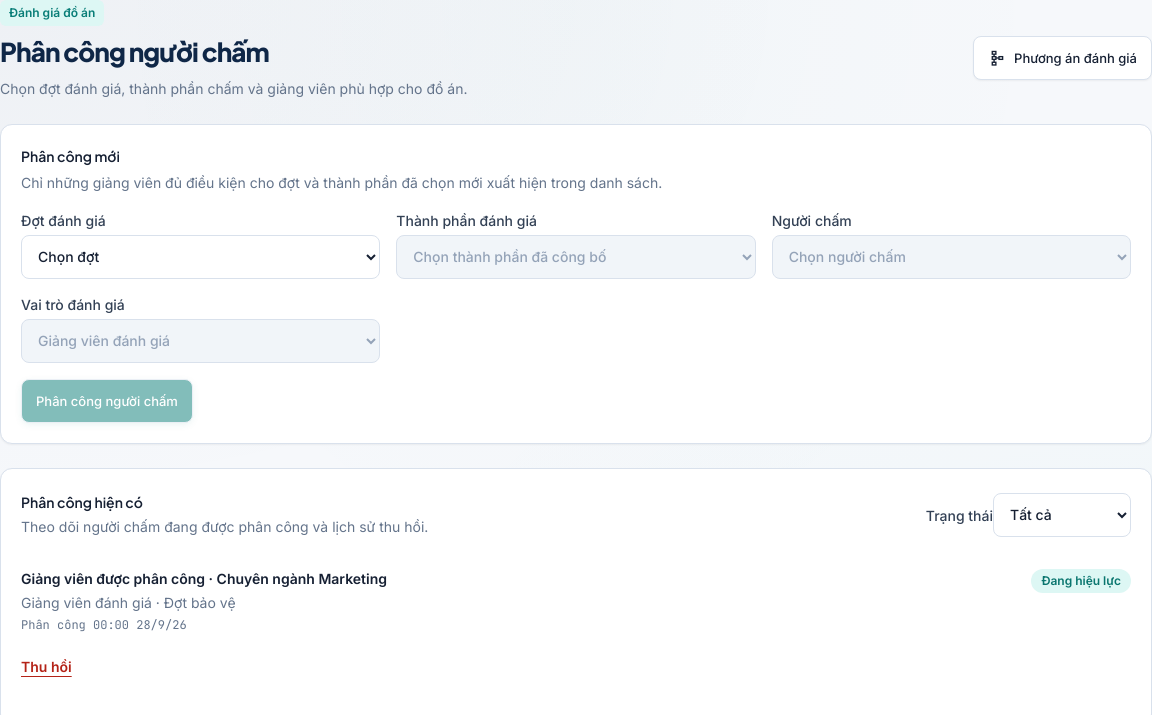
Test: EvaluatorAssignmentManagementPage › warns when a required component of the selected period lacks enough active evaluators
Select "Fall 2026 · Đợt bảo vệ · Đang hoạt động" in the dropdown labelled "Đợt đánh giá" at (201, 257), box [21,235,380,279]
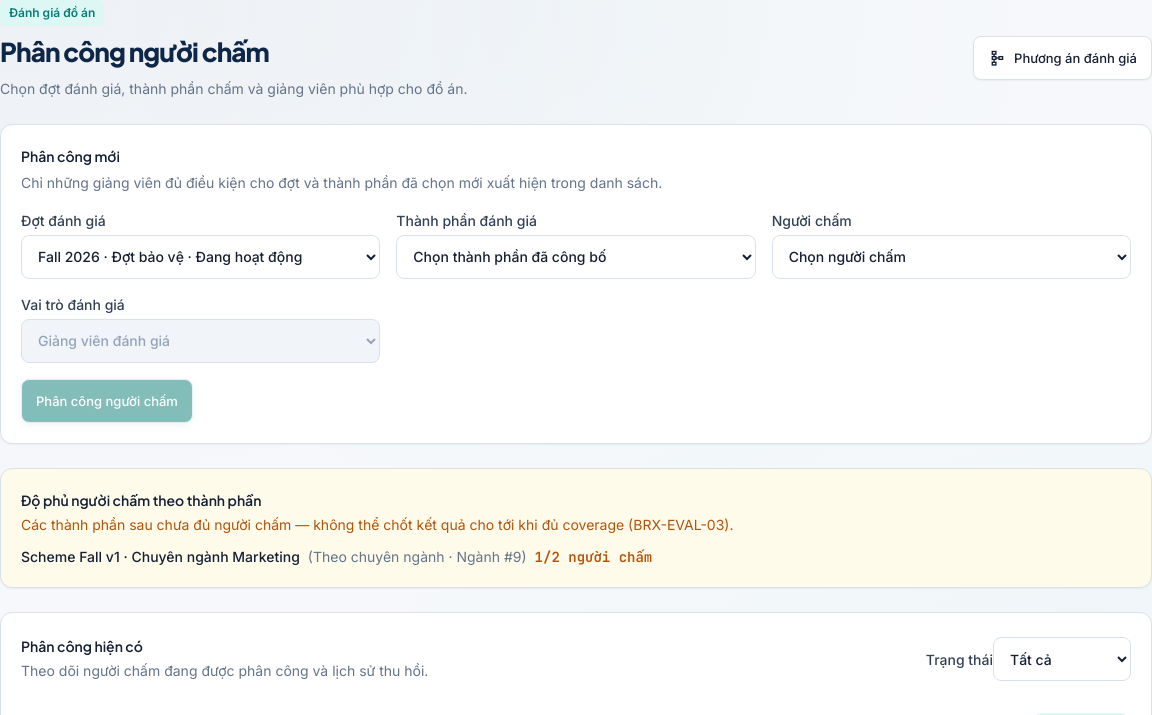
Result: the heading "Độ phủ người chấm theo thành phần" is shown at [21,491,261,509]
Result: the text "1/2 người chấm" is shown at [535,547,652,567]
